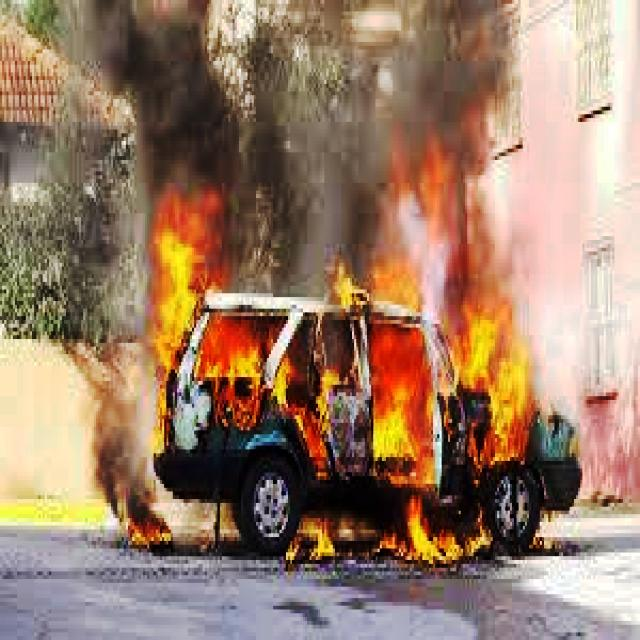api: (99, 192, 287, 458), (372, 199, 541, 473), (361, 485, 526, 595), (268, 489, 351, 584), (104, 481, 195, 565)
